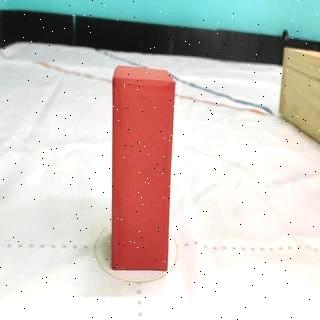redbox: (113, 64, 175, 274)
